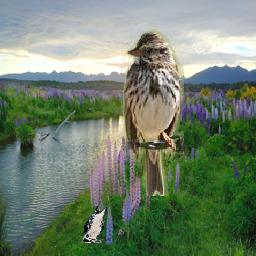Sparrow: (122, 30, 185, 197)
Woodpecker: (83, 205, 108, 243)
